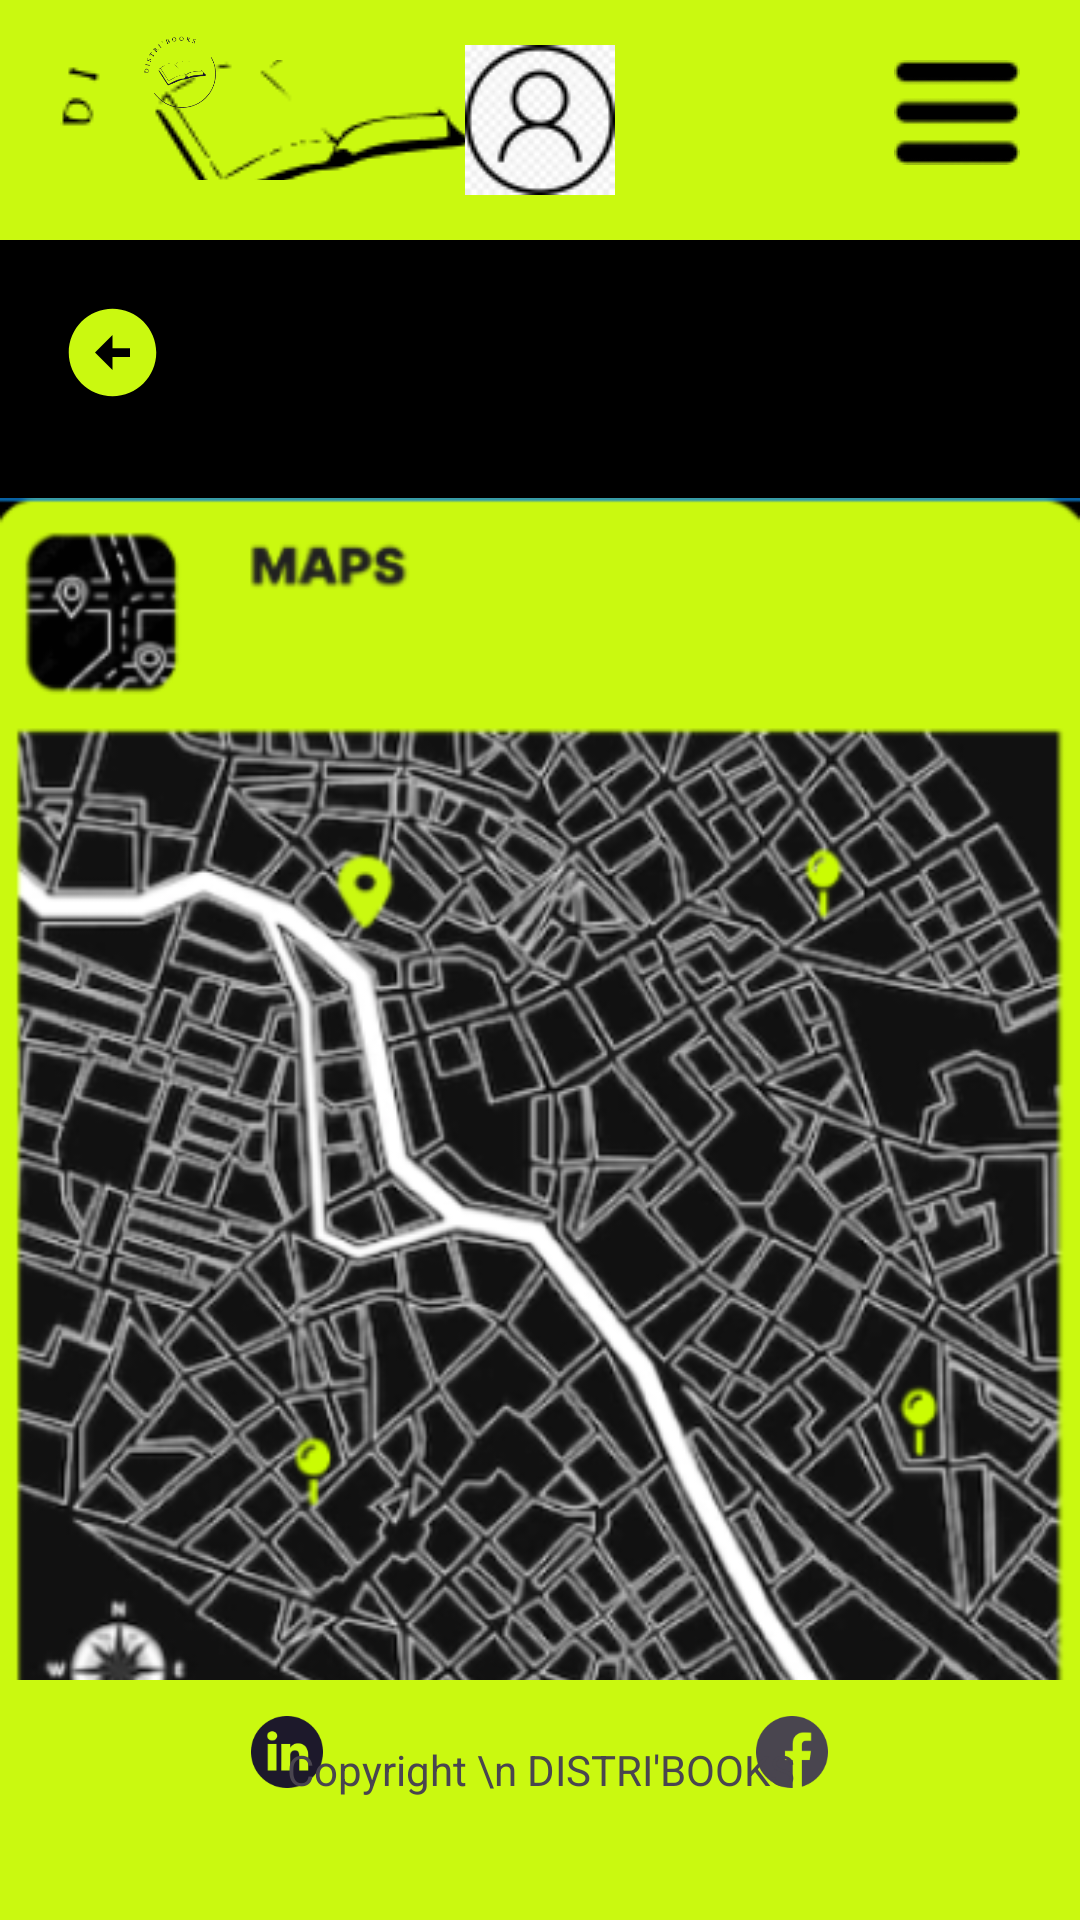

Icons on this 1080px x 1920px Android screen, each with its box as bbox=[x1, y1, x2, y2]:
arrow circle left: bbox=[68, 308, 157, 397]
